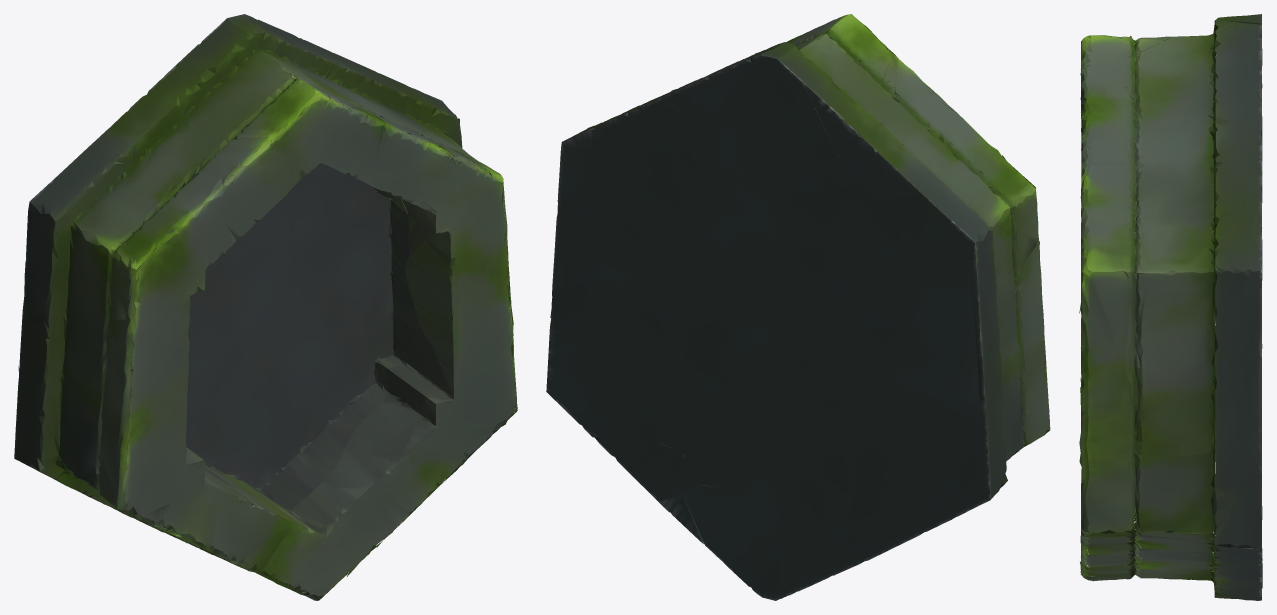
Rendered from Lab_ArchGate.glb.
3 views of the same model, side by side, from view 1: azimuth 30°, elevation 25°; view 2: azimuth 150°, elevation 25°; view 3: azimuth 270°, elevation 25° (orthographic). The views are drawn at different scales.
Parts seen in each view (by area): view 1: Lab_ArchGate; view 2: Lab_ArchGate; view 3: Lab_ArchGate.
Part boxes in pixels (x1,y1,x2,y2): Lab_ArchGate: [14, 14, 517, 600]; Lab_ArchGate: [546, 14, 1050, 600]; Lab_ArchGate: [1079, 14, 1262, 600].
Bounding box in the file's own units: 2.91 × 3.4 × 0.9781.
Materials: 1 (1 with a texture image).
